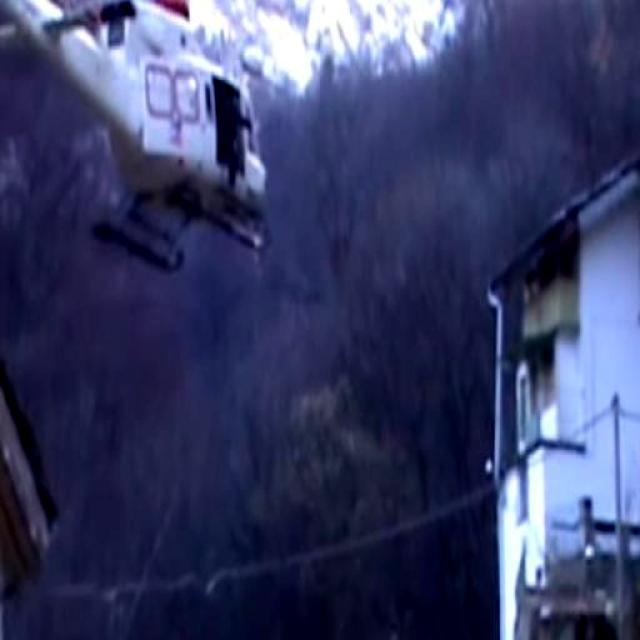drone: (0, 0, 290, 260)
